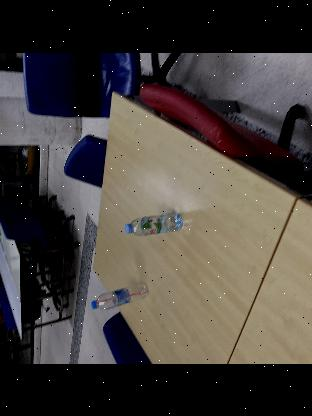Plastic Bottle: (90, 280, 150, 310), (124, 208, 184, 236)
